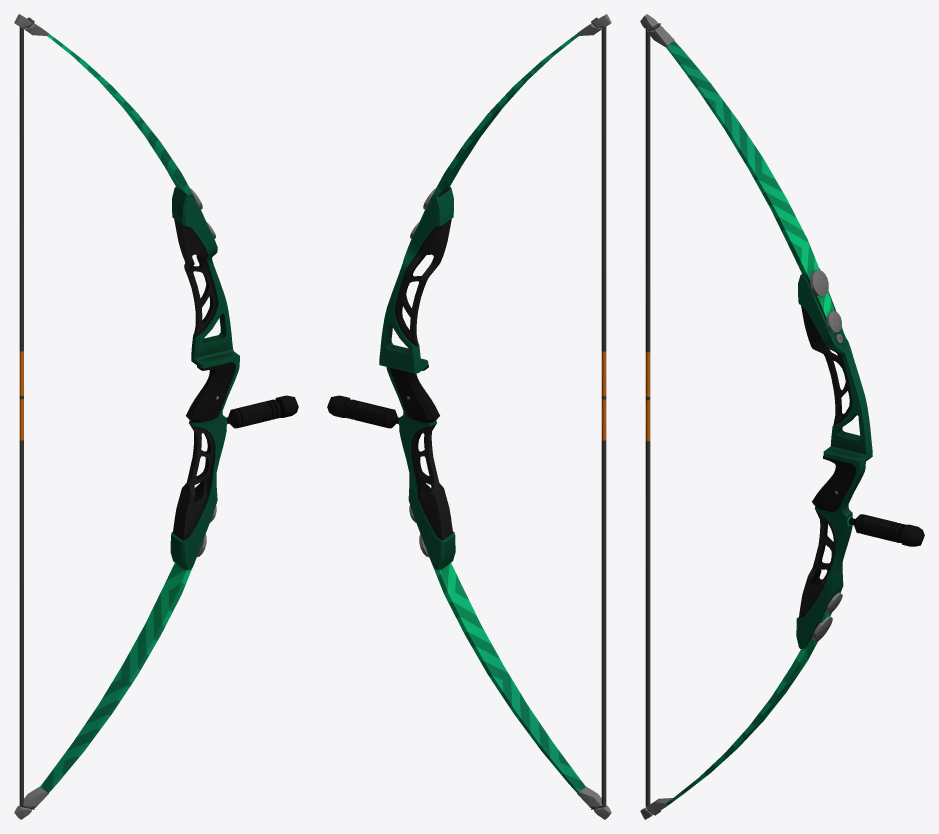
Rendered from bow_02t.glb.
The picture shows the model from 3 angles, left to right: view 1: azimuth 30°, elevation 25°; view 2: azimuth 150°, elevation 25°; view 3: azimuth 330°, elevation 25°; orthographic projection.
Visible parts, largest first — view 1: _bow_02_low, _bow_02_rope; view 2: _bow_02_low, _bow_02_rope; view 3: _bow_02_low, _bow_02_rope.
Part boxes in pixels (box(x1,y1,x2,y2)): _bow_02_low: box(14, 14, 298, 819); _bow_02_rope: box(19, 17, 34, 809); _bow_02_low: box(327, 14, 611, 819); _bow_02_rope: box(591, 17, 606, 809); _bow_02_low: box(640, 14, 924, 819); _bow_02_rope: box(645, 23, 660, 815).
Bounding box in the file's own units: 0.4947 × 1.34 × 0.0524.
3 materials, 1 textured.
